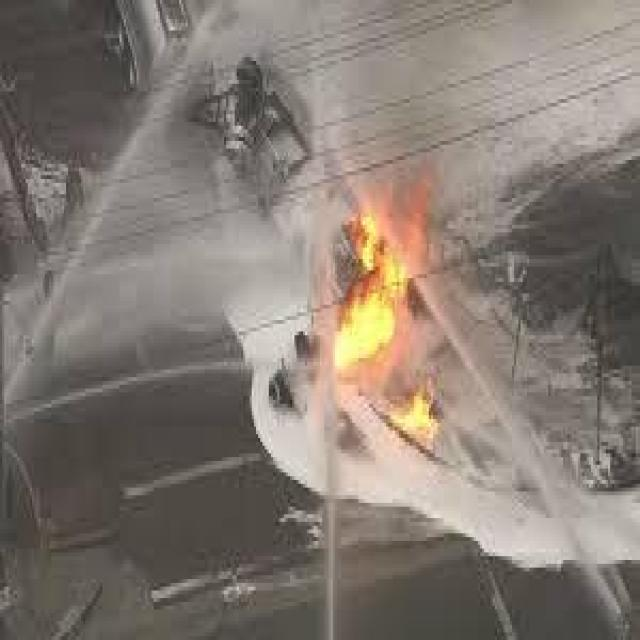fire: (310, 172, 464, 458)
